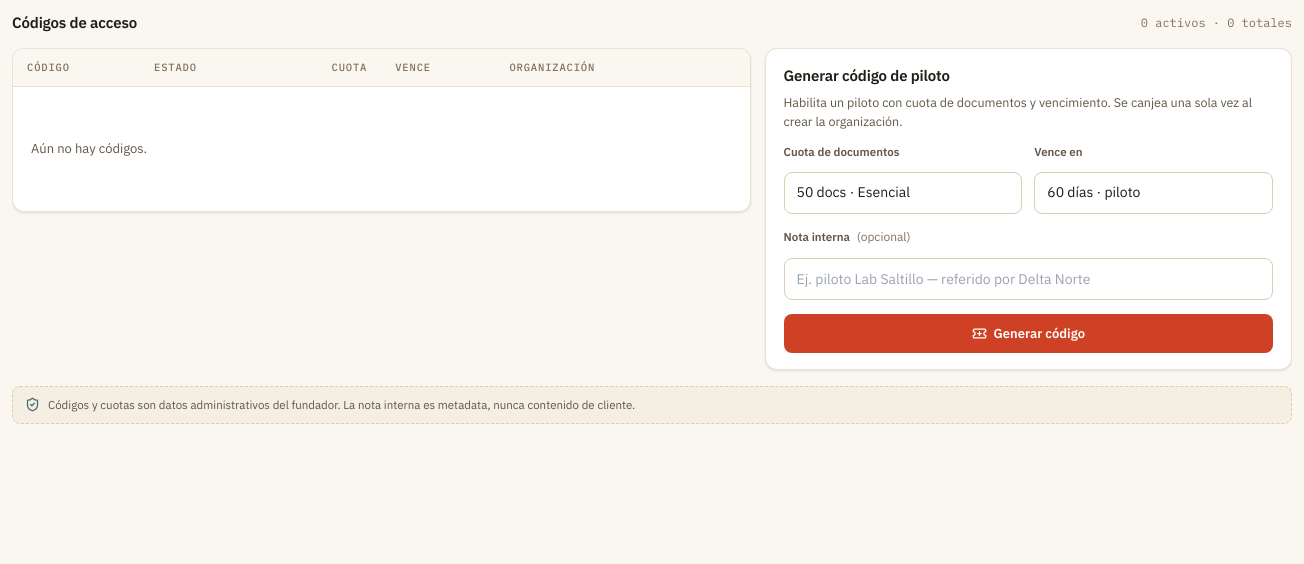
Test: Consola del fundador — acciones en vivo › Códigos: generar usa defaults cerrados (50 docs / 60 días) y muestra el código
This screenshot has width=1304, height=564.
Click the button "Generar código" at (1028, 334), box [784,314,1273,353]
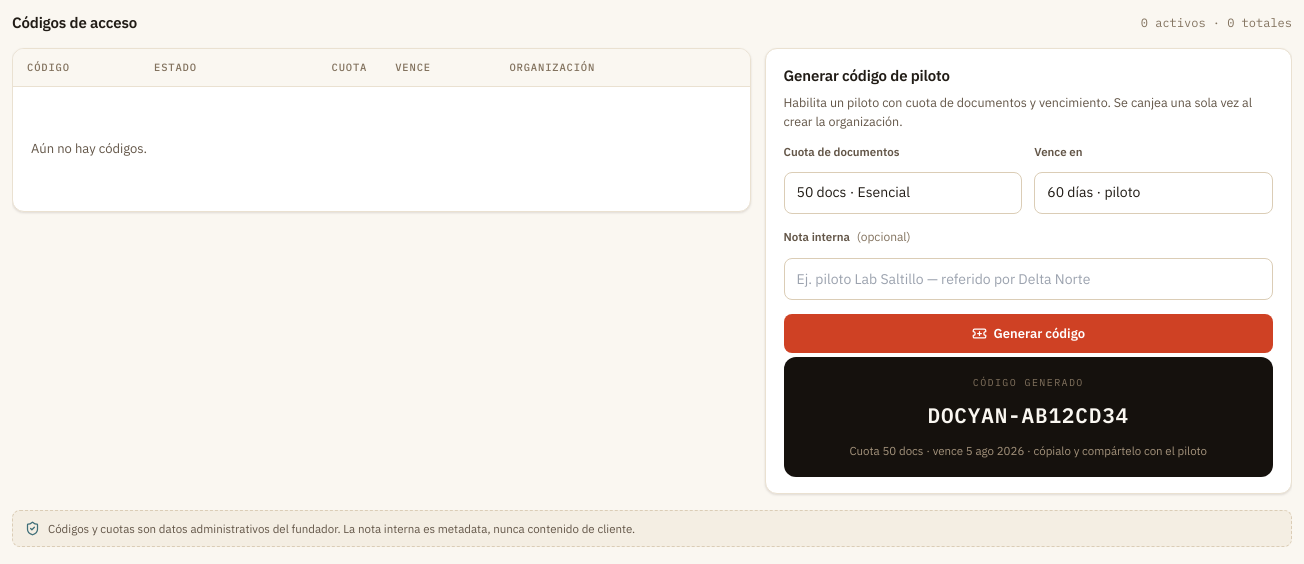
Expected: the text "DOCYAN-AB12CD34" is shown, [927,401,1129,429]
